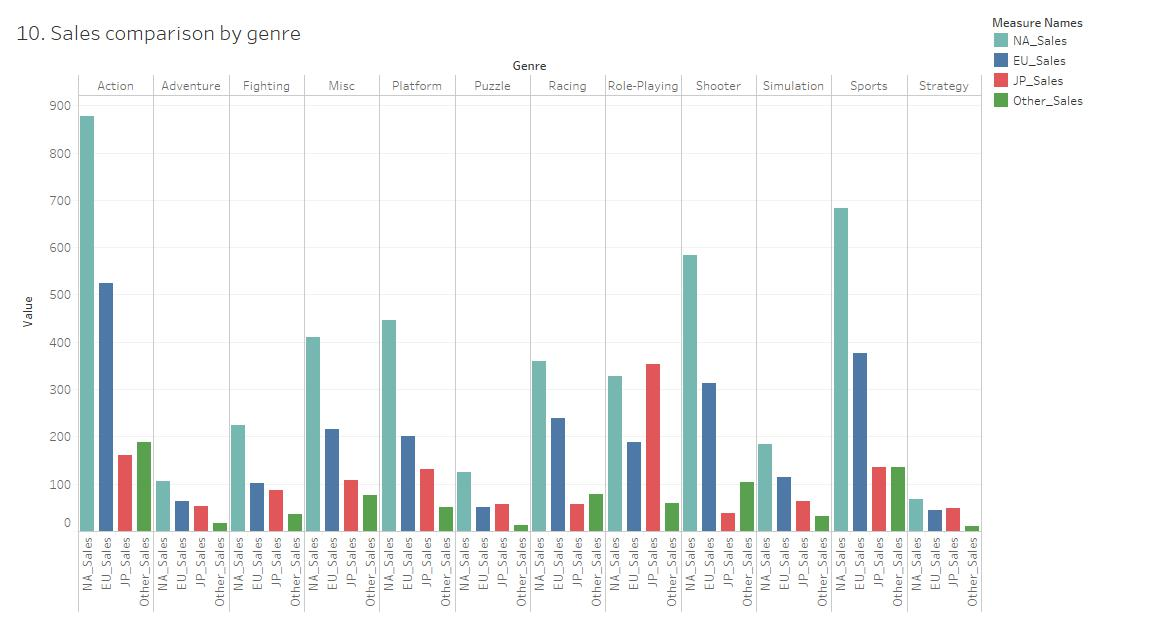

Layout of this report page (visuals, bound fields, positions):
{"tool":"tableau","page":{"name":"Dashboard 10","canvas":[1000,1000],"units":"permille","ordinal":1},"visuals":[{"type":"worksheet","title":"10genresales","mark":"Automatic","cols":["F5"],"box":[6.9,12.8,847.6,974.4]},{"type":"legend","title":"10genresales","param":"[federated.1l6uq6p1hj0jwq1ewgcnx05iow1u].[:Measure Names]","box":[854.5,12.8,138.5,169.9]}]}

Visuals, with their boxes on the dashboard's canvas, which has no fixed pixel size, in thousandths of its width and height (x1, y1, x2, y2). These are canvas units, not pixel positions in the 1155x624 screenshot, which may show the page scaled, cropped or inside an application window:
"10genresales" worksheet: 7, 13, 854, 987
"10genresales" legend: 854, 13, 993, 183
